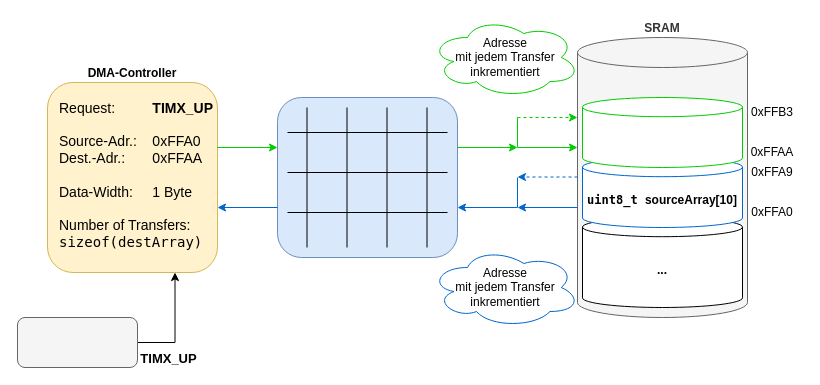
Image size: 820x385. Some labels were removed from this diagram. Each missing label, with the centre of its shape:
Bus-Matrix: the point at 367,177
Timer TIMX: the point at 77,342
uint8_t destArray[10]: the point at 662,132
